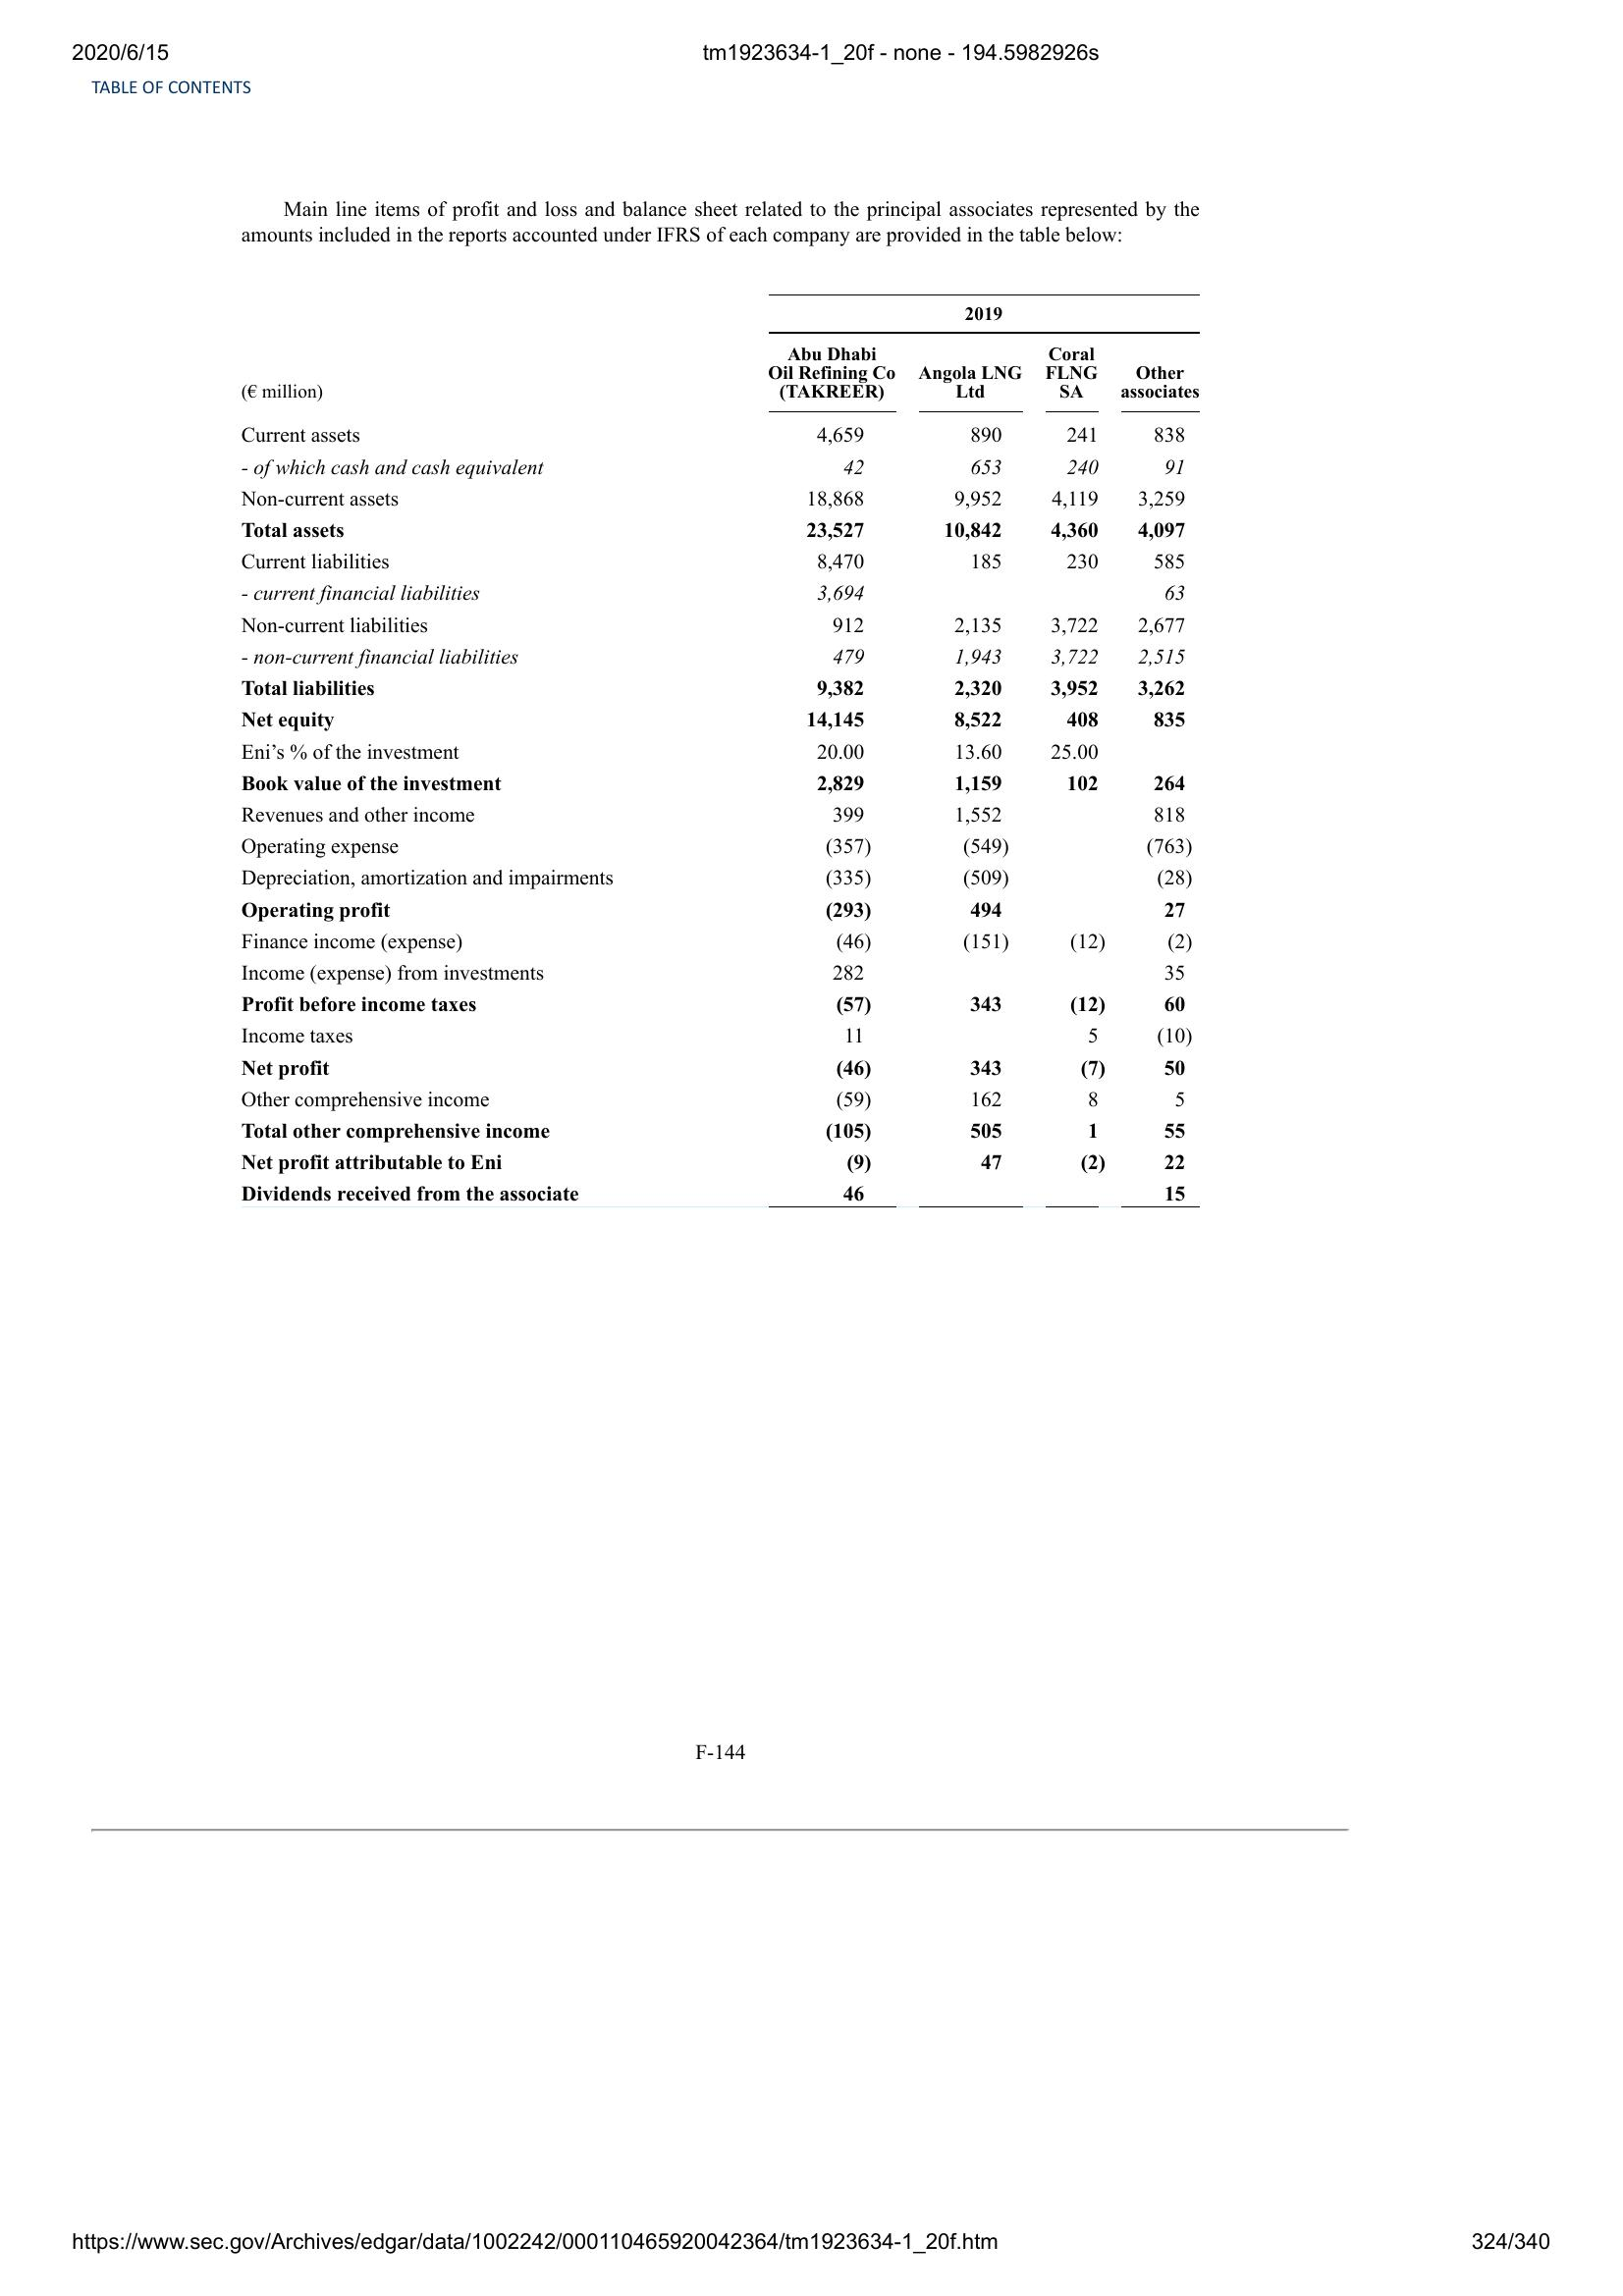table: (235, 286, 1205, 1213)
